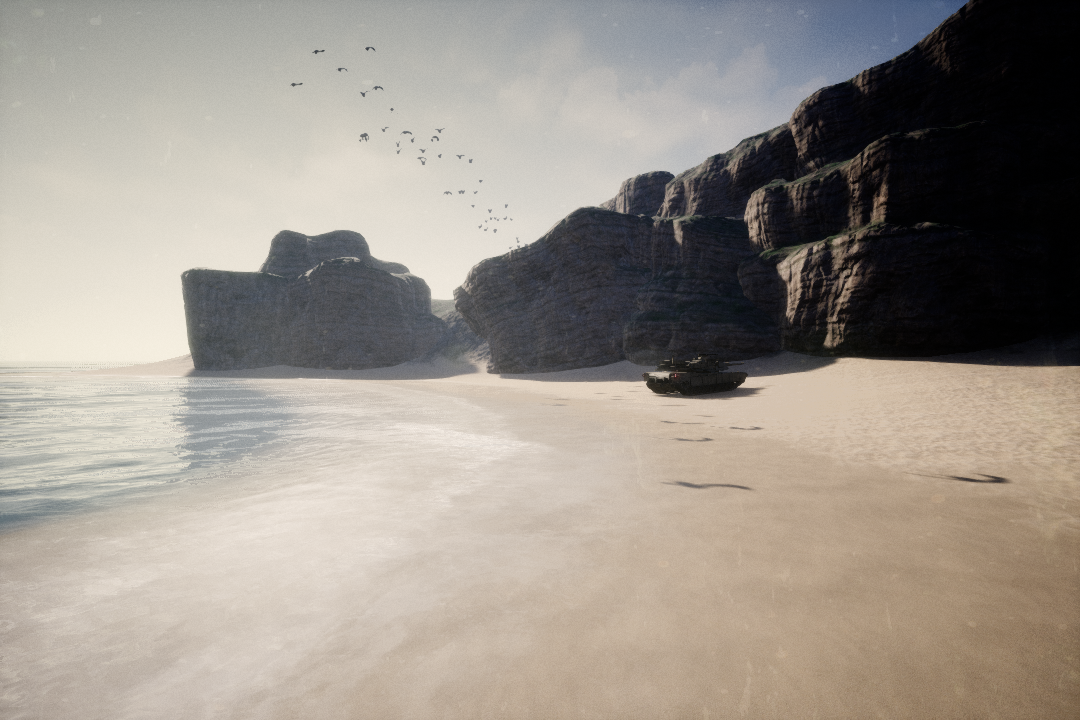tank: (635, 352, 759, 398)
